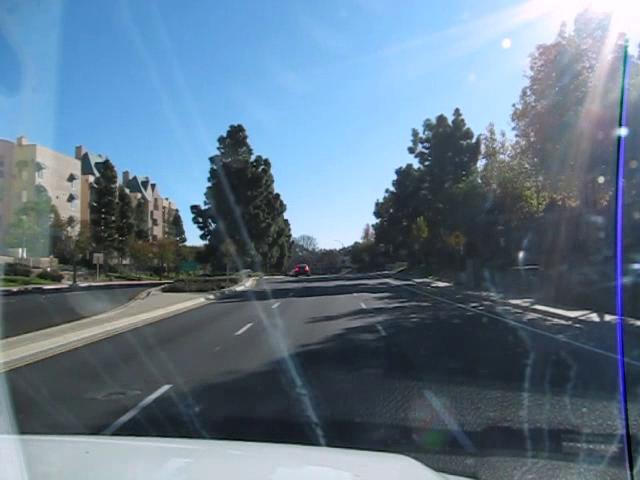signalAhead: (218, 236, 240, 258)
